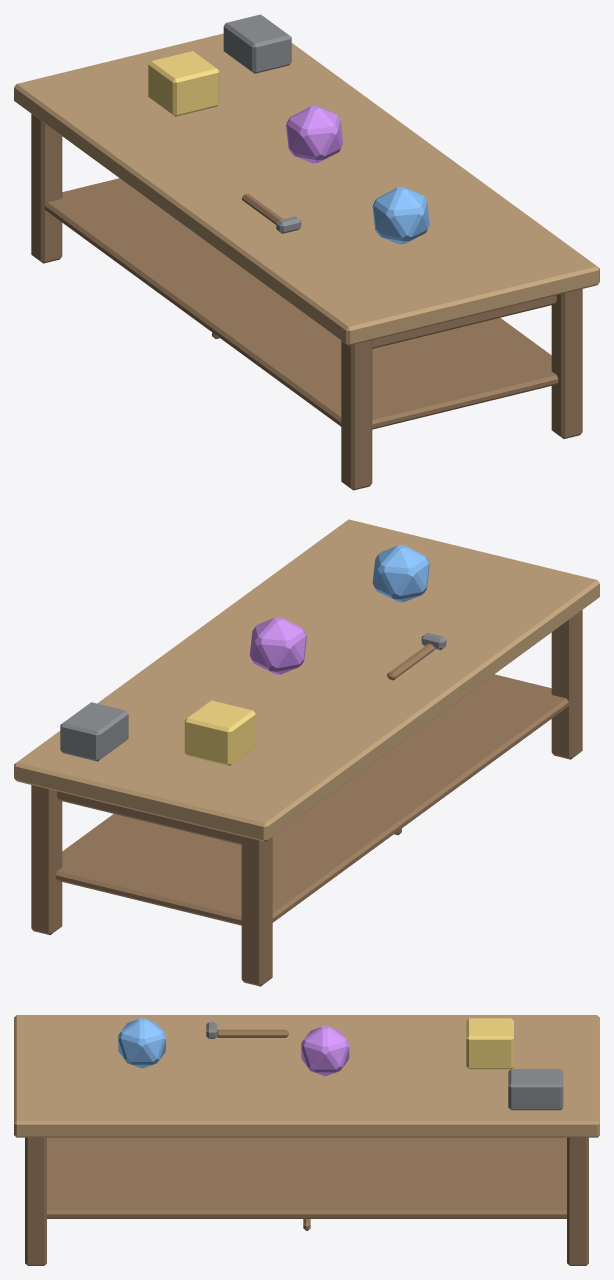
File: HubWorkbench.fbx
3 renders of one model, top to bottom at view 1: azimuth 30°, elevation 25°; view 2: azimuth 150°, elevation 25°; view 3: azimuth 270°, elevation 25°, orthographic. The views are drawn at different scales.
Parts seen in each view (by area): view 1: HubWorkbench; view 2: HubWorkbench; view 3: HubWorkbench.
Part boxes in pixels (x1,y1,x2,y2): HubWorkbench: [14, 14, 599, 490]; HubWorkbench: [14, 519, 599, 986]; HubWorkbench: [14, 1015, 599, 1265].
Bounding box in the file's own units: 1.4 × 1.19 × 3.2.
